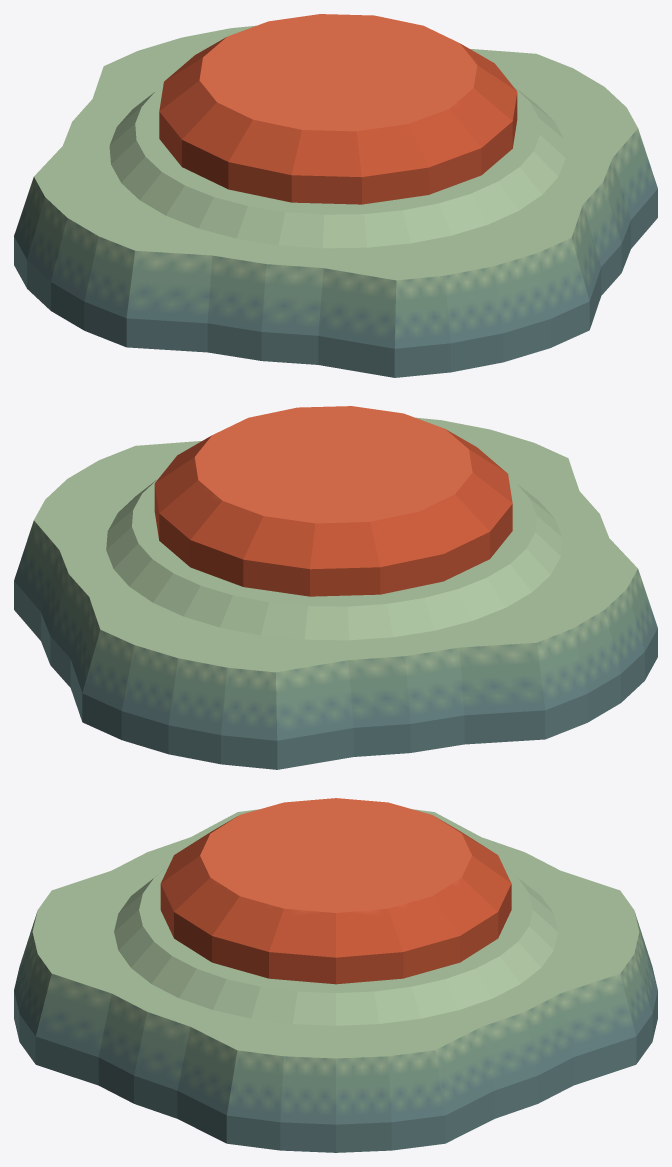
File: button_red.fbx
The picture shows the model from 3 angles, top to bottom: view 1: azimuth 30°, elevation 25°; view 2: azimuth 150°, elevation 25°; view 3: azimuth 270°, elevation 25°; orthographic projection. The views are drawn at different scales.
Visible parts, largest first — view 1: button; view 2: button; view 3: button.
Boxes of the visible parts, x1,y1,x2,y2 form: button: (14,14,657,377); button: (14,406,657,769); button: (14,798,657,1152).
Size of the model in its own units: 148 by 41.69 by 149.
Materials: 1 (1 with a texture image).
